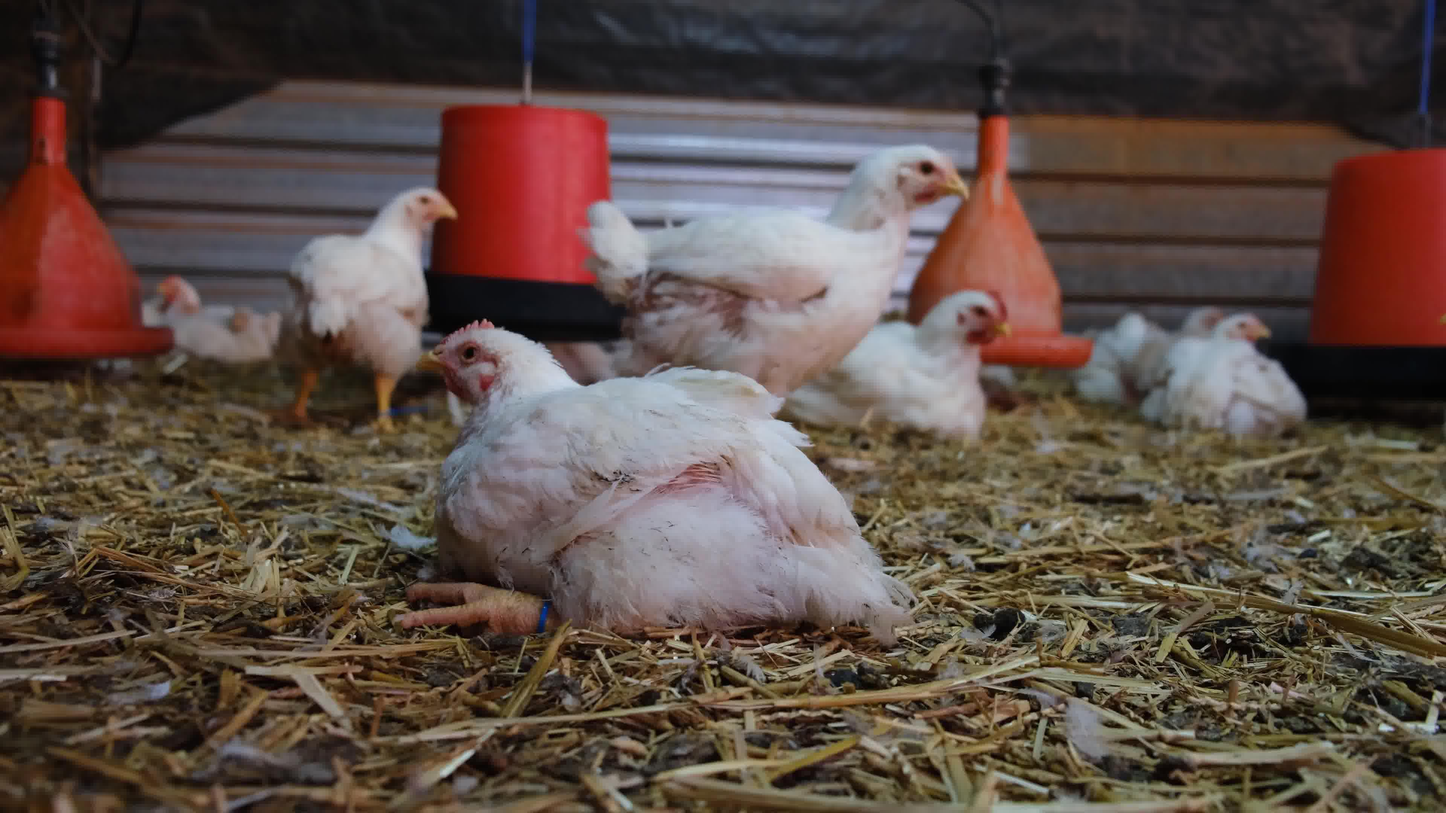AbNormal: (410, 322, 911, 652), (757, 286, 1015, 441), (1158, 315, 1313, 446), (1078, 303, 1226, 428), (140, 271, 280, 375)
Normal: (584, 143, 972, 423), (275, 185, 460, 435)
